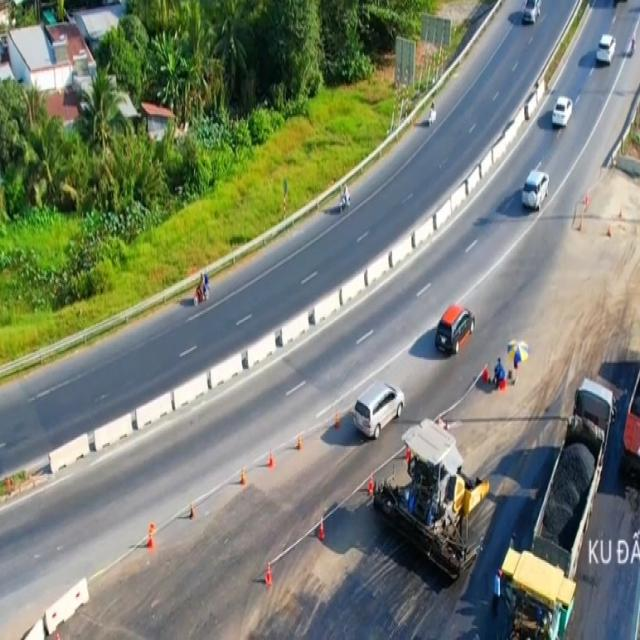car: (352, 380, 404, 434), (433, 304, 478, 360), (522, 165, 550, 212), (596, 27, 617, 66), (552, 94, 575, 129)
motorbike: (194, 275, 210, 306)
